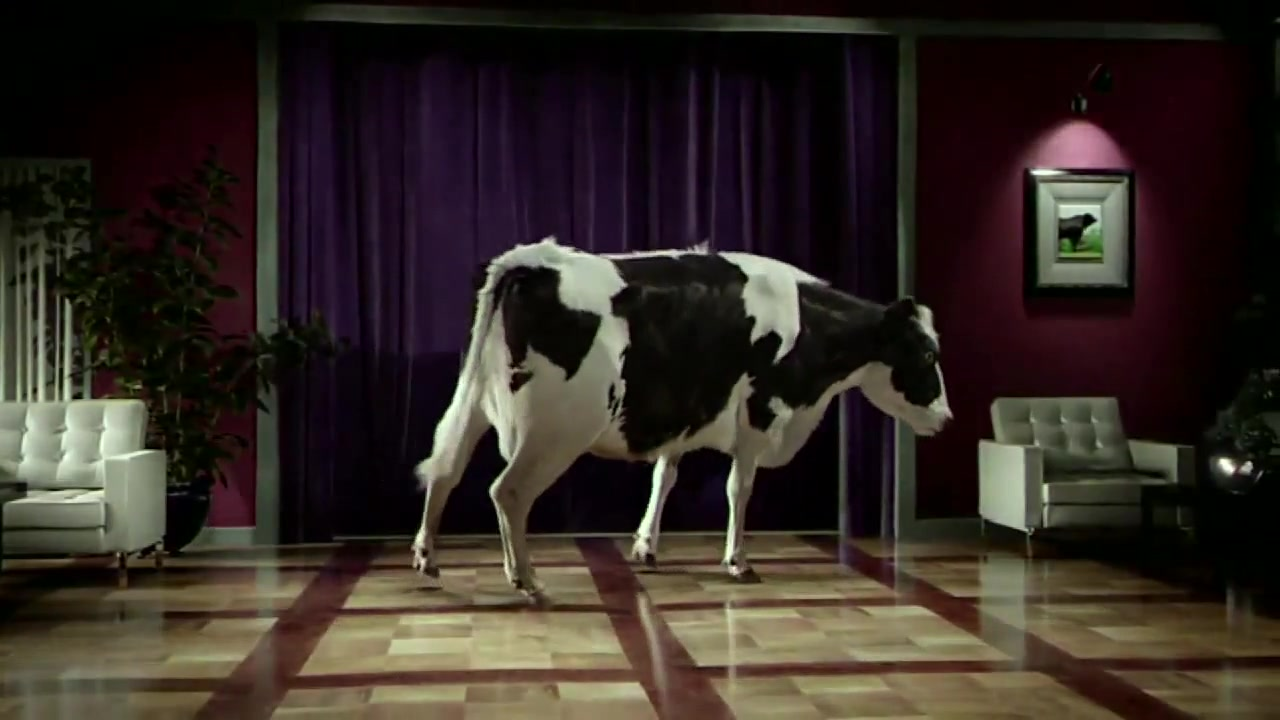cow: (411, 235, 951, 609)
